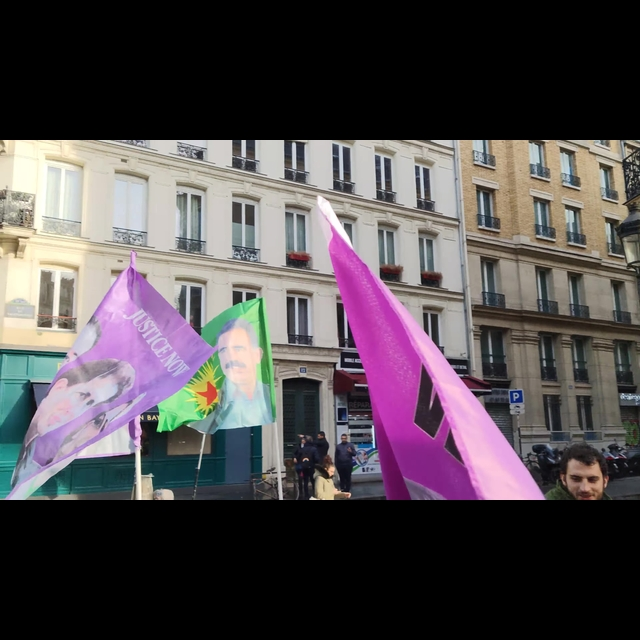APO: (215, 318, 264, 384)
KCK: (176, 364, 226, 415)
